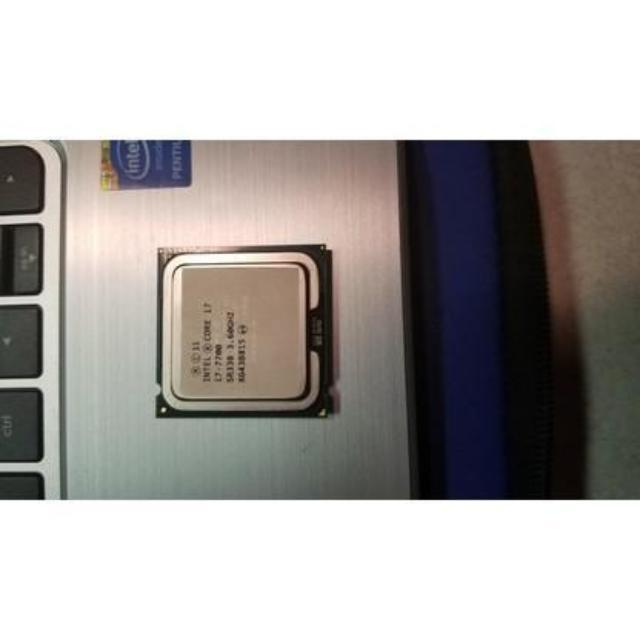CPU: (154, 249, 323, 414)
